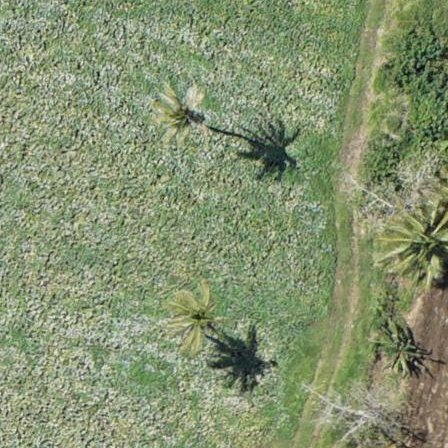palm_tree: (145, 81, 205, 146), (395, 200, 448, 270), (163, 286, 219, 345), (441, 170, 448, 213)
